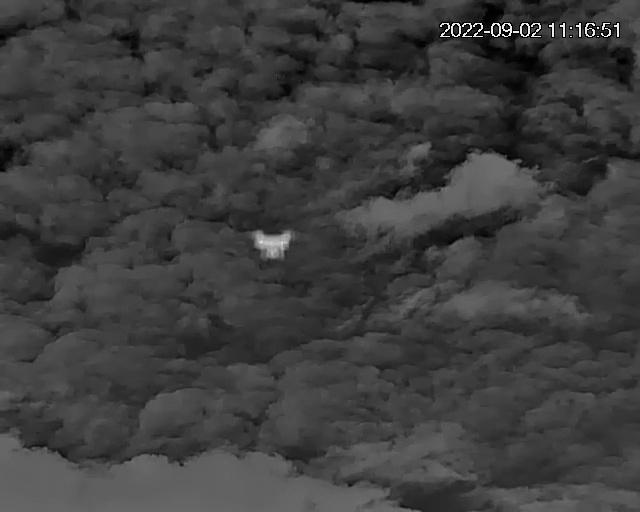DJI-Phantom: (249, 228, 300, 266)
